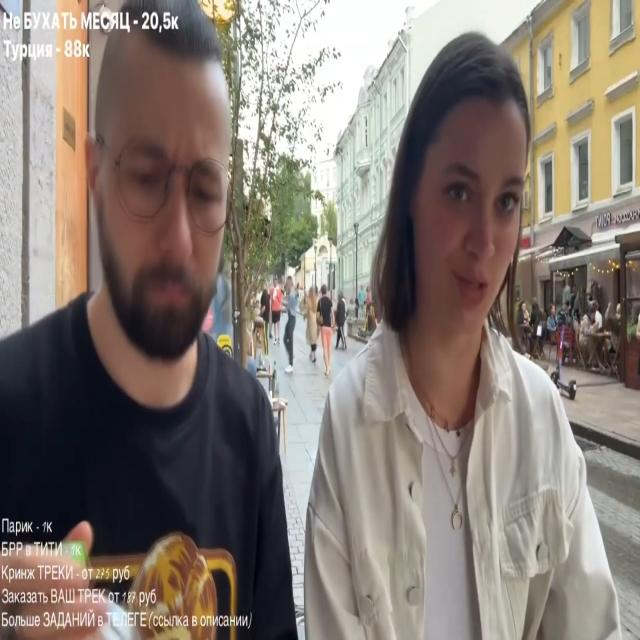Person: (287, 34, 627, 633), (0, 5, 288, 598), (279, 278, 304, 370), (315, 285, 335, 364), (578, 310, 598, 371), (334, 293, 349, 352)
